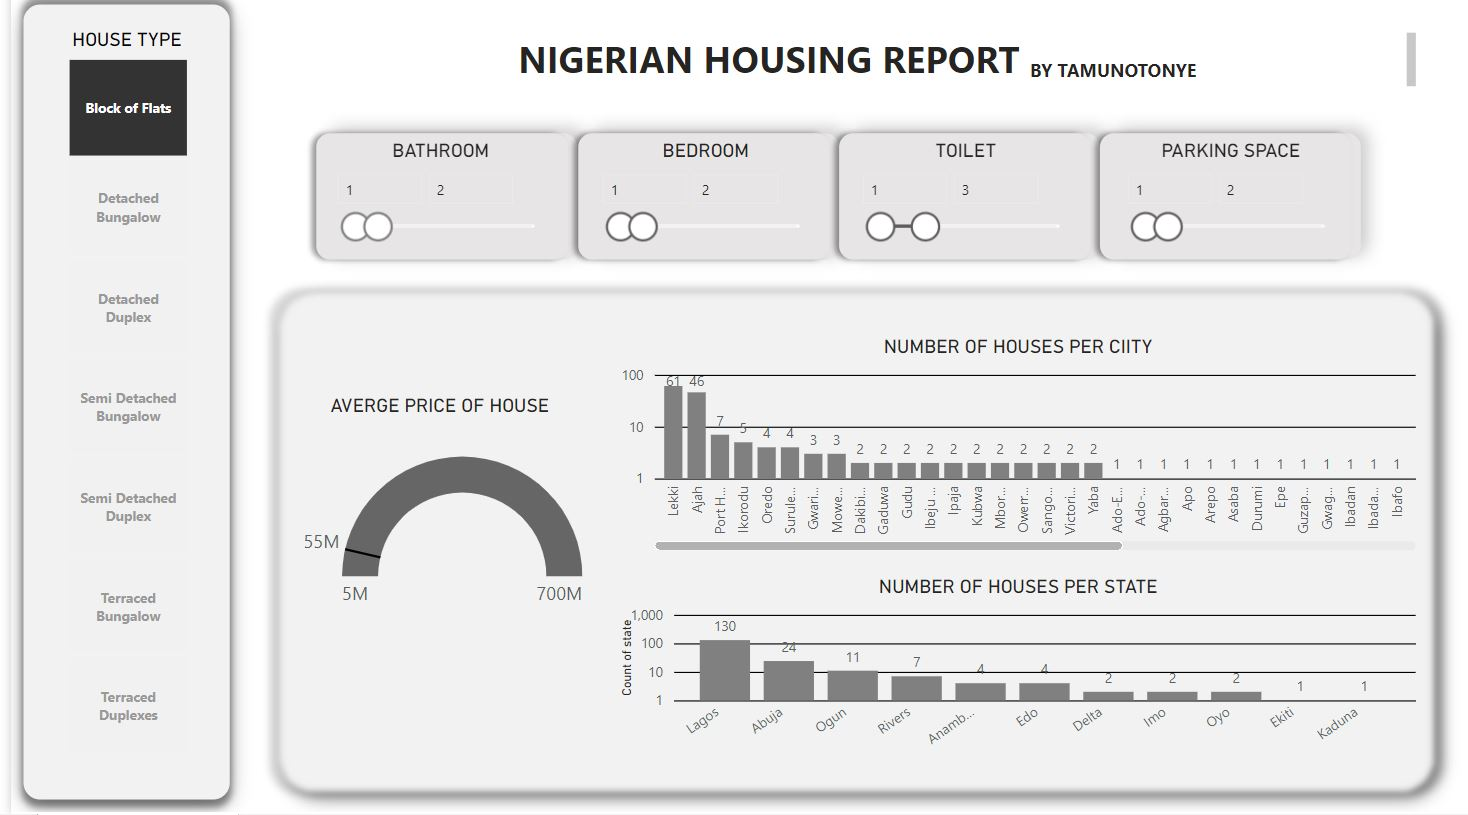

What the dashboard file says about the page in this screenshot:
{"tool":"powerbi","page":{"name":"NIGERIAN HOUSING REPORT","canvas":[1280,720],"ordinal":0},"visuals":[{"type":"slicer","title":"BEDROOM","fields":{"Values":["Table1.bedrooms"]},"box":[506.3,127.2,206.9,100.2],"z":1000},{"type":"slicer","title":"HOUSE TYPE","fields":{"Values":["Table1.Home_Type"]},"box":[25.7,29.6,152.9,643.9],"z":1500},{"type":"slicer","title":"BATHROOM","fields":{"Values":["Table1.bedrooms"]},"box":[273.7,127.2,206.9,100.2],"z":2000},{"type":"slicer","title":"TOILET","fields":{"Values":["Table1.toilets"]},"box":[735.1,127.2,206.9,100.2],"z":3000},{"type":"slicer","title":"PARKING SPACE","fields":{"Values":["Table1.parking_space"]},"box":[967.7,127.2,206.9,100.2],"z":4000},{"type":"clusteredColumnChart","title":"NUMBER OF HOUSES PER STATE","fields":{"Category":["Table1.state"],"Y":["CountNonNull(Table1.state)"]},"box":[530.8,510.2,708.1,163.2],"z":5000},{"type":"clusteredColumnChart","title":"NUMBER OF HOUSES PER CIITY","fields":{"Category":["Table1.town"],"Y":["CountNonNull(Table1.town)"]},"box":[530.8,299.4,708.1,194.1],"z":6000},{"type":"gauge","title":"AVERGE PRICE OF HOUSE","fields":{"Y":["Sum(Table1.price)"],"MinValue":["Min(Table1.price)"],"MaxValue":["Max(Table1.price)"]},"box":[246.7,350.8,259.6,227.5],"z":7000},{"type":"textbox","box":[255.4,29.2,983.2,58.5],"z":7001}]}

Visuals, with their boxes in screenshot pixels (x1, y1, x2, y2), scaled from the page's 1280x720 canvas onto the 1468x815 screenshot:
"BEDROOM" slicer: [581, 144, 818, 257]
"HOUSE TYPE" slicer: [29, 34, 205, 762]
"BATHROOM" slicer: [314, 144, 551, 257]
"TOILET" slicer: [843, 144, 1080, 257]
"PARKING SPACE" slicer: [1110, 144, 1347, 257]
"NUMBER OF HOUSES PER STATE" clusteredColumnChart: [609, 578, 1421, 762]
"NUMBER OF HOUSES PER CIITY" clusteredColumnChart: [609, 339, 1421, 559]
"AVERGE PRICE OF HOUSE" gauge: [283, 397, 581, 655]
textbox: [293, 33, 1421, 99]
